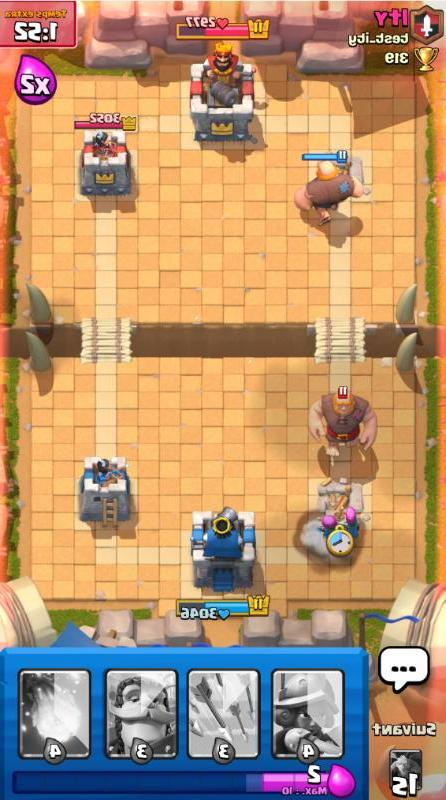archere: (338, 506, 359, 539), (316, 514, 338, 539)
geant: (294, 150, 364, 226), (308, 386, 377, 457)
